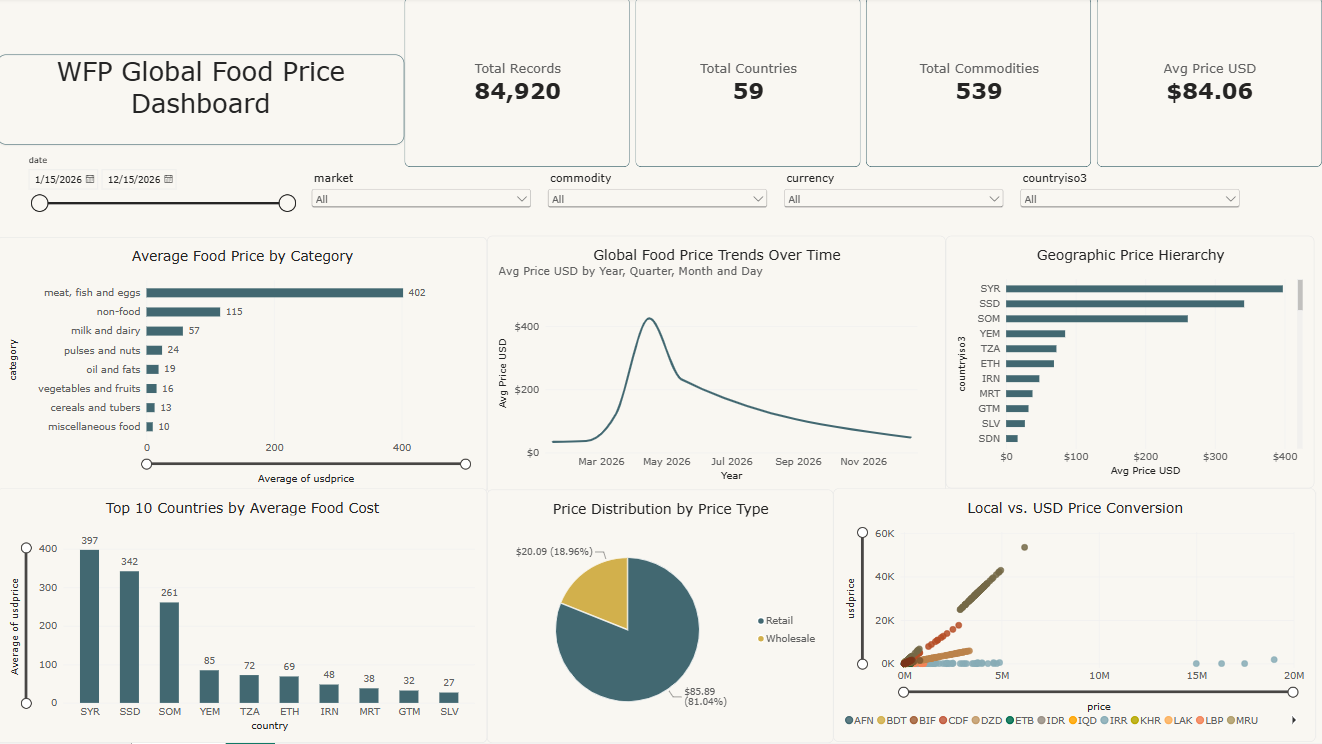

What the dashboard file says about the page in this screenshot:
{"tool":"powerbi","page":{"name":"Page 1","canvas":[1920,1080],"ordinal":0},"visuals":[{"type":"cardVisual","fields":{"Data":["Table_measurements.Total Records","Table_measurements.Total Countries","Table_measurements.Total Commodities","Table_measurements.Avg Price USD"]},"box":[589.9,0,1330.1,246.1],"z":0},{"type":"clusteredBarChart","title":"Average Food Price by Category","fields":{"Category":["Dim_Commodity.category"],"Y":["Avg(Fact_FoodPrices.usdprice)"]},"box":[0,347.5,709.4,371],"z":1000},{"type":"clusteredColumnChart","title":"Top 10 Countries by Average Food Cost","fields":{"Category":["Dim_Location.countryiso3"],"Y":["Avg(Fact_FoodPrices.usdprice)"]},"box":[0,711.2,709.4,369.2],"z":2000},{"type":"slicer","fields":{"Values":["Dim_Commodity.commodity"]},"box":[792.6,251.7,327.1,81.2],"z":3000},{"type":"lineChart","title":"Global Food Price Trends Over Time","fields":{"Category":["Dim_Date.Date.Variation.Date Hierarchy.Year","Dim_Date.Date.Variation.Date Hierarchy.Quarter","Dim_Date.Date.Variation.Date Hierarchy.Month","Dim_Date.Date.Variation.Date Hierarchy.Day"],"Y":["Table_measurements.Avg Price USD"]},"box":[709.4,345.6,664.1,372.8],"z":4000},{"type":"pieChart","title":"Price Distribution by Price Type","fields":{"Category":["Dim_Price.pricetype"],"Y":["Table_measurements.Avg Price USD"]},"box":[709.4,713,501.3,367.4],"z":5000},{"type":"slicer","fields":{"Values":["Dim_Price.currency"]},"box":[1134.5,251.2,327.1,64.1],"z":6000},{"type":"slicer","fields":{"Values":["Dim_Location.market"]},"box":[450.9,251.9,327,81],"z":7000},{"type":"slicer","fields":{"Values":["Fact_FoodPrices.date"]},"box":[38,228,398.1,108.6],"z":8000},{"type":"textbox","box":[0,83.2,589.9,130.3],"z":9000},{"type":"textbox","box":[1409,719,511,361],"z":10000},{"type":"scatterChart","title":"Local vs. USD Price Conversion","fields":{"Series":["Dim_Price.currency"],"X":["Fact_FoodPrices.price"],"Y":["Fact_FoodPrices.usdprice"]},"box":[1210.7,711.2,698.5,367.4],"z":11000},{"type":"slicer","fields":{"Values":["Dim_Location.countryiso3"]},"box":[1476.3,251.2,327,64],"z":12000},{"type":"clusteredBarChart","title":"Geographic Price Hierarchy","fields":{"Category":["Dim_Location.countryiso3 Hierarchy.countryiso3","Dim_Location.countryiso3 Hierarchy.admin1","Dim_Location.countryiso3 Hierarchy.admin2","Dim_Location.countryiso3 Hierarchy.market"],"Y":["Table_measurements.Avg Price USD"]},"box":[1373.5,345.6,533.8,365.6],"z":12001}]}

Visuals, with their boxes in screenshot pixels (x1, y1, x2, y2), scaled from the page's 1920x1080 canvas onto the 1322x744 screenshot:
cardVisual - Table_measurements.Total Records x Table_measurements.Total Countries: 406/0/1321/170
"Average Food Price by Category" clusteredBarChart: 0/239/488/495
"Top 10 Countries by Average Food Cost" clusteredColumnChart: 0/490/488/743
slicer - Dim_Commodity.commodity: 546/173/771/229
"Global Food Price Trends Over Time" lineChart: 488/238/946/495
"Price Distribution by Price Type" pieChart: 488/491/834/743
slicer - Dim_Price.currency: 781/173/1006/217
slicer - Dim_Location.market: 310/174/536/229
slicer - Fact_FoodPrices.date: 26/157/300/232
textbox: 0/57/406/147
textbox: 970/495/1321/743
"Local vs. USD Price Conversion" scatterChart: 834/490/1315/743
slicer - Dim_Location.countryiso3: 1016/173/1242/217
"Geographic Price Hierarchy" clusteredBarChart: 946/238/1313/490
